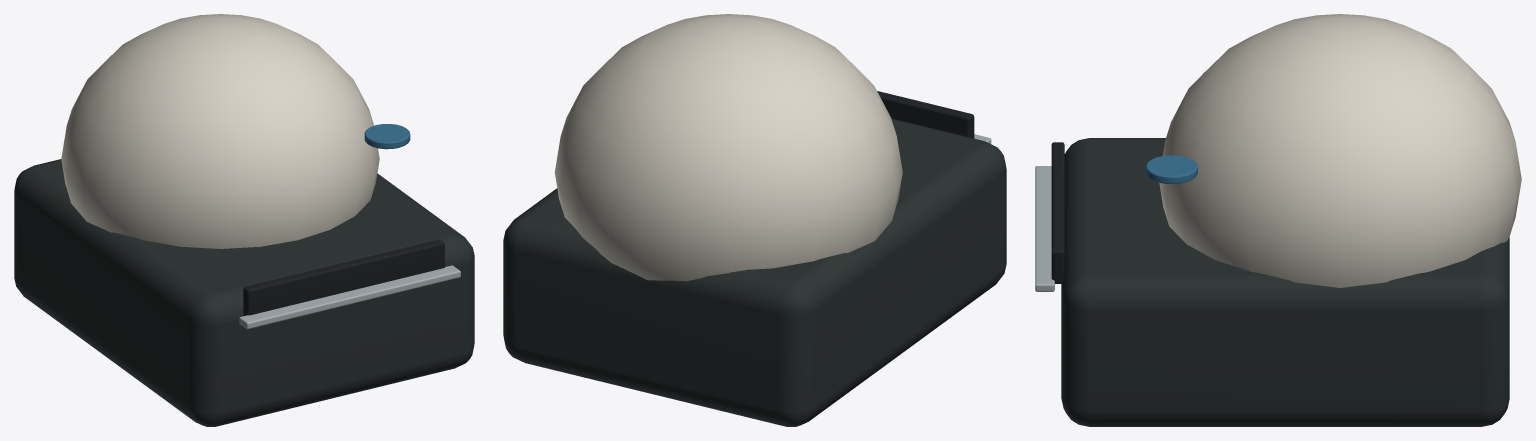
The model's file is crime-label-printer.glb.
3 renders of one model, left to right at view 1: azimuth 30°, elevation 25°; view 2: azimuth 150°, elevation 25°; view 3: azimuth 270°, elevation 25°, orthographic. The views are drawn at different scales.
Visible parts, largest first — view 1: Label printer base, Rounded roll housing, Label dispensing slot, Cutter lip, Feed key; view 2: Label printer base, Rounded roll housing, Label dispensing slot; view 3: Label printer base, Rounded roll housing, Cutter lip, Label dispensing slot, Feed key.
Part boxes in pixels (x1=…): Label printer base: x1=14, y1=159, x2=474, y2=426; Rounded roll housing: x1=61, y1=14, x2=379, y2=248; Label dispensing slot: x1=243, y1=239, x2=444, y2=315; Cutter lip: x1=239, y1=265, x2=460, y2=329; Feed key: x1=364, y1=124, x2=410, y2=149; Label printer base: x1=503, y1=118, x2=1006, y2=426; Rounded roll housing: x1=554, y1=14, x2=902, y2=281; Label dispensing slot: x1=877, y1=91, x2=974, y2=138; Label printer base: x1=1061, y1=138, x2=1509, y2=426; Rounded roll housing: x1=1159, y1=14, x2=1521, y2=287; Cutter lip: x1=1035, y1=166, x2=1054, y2=291; Label dispensing slot: x1=1051, y1=142, x2=1064, y2=283; Feed key: x1=1145, y1=155, x2=1197, y2=184.
Bounding box in the file's own units: 0.17 × 0.164 × 0.2225.
Materials: 5 (5 with a texture image).
